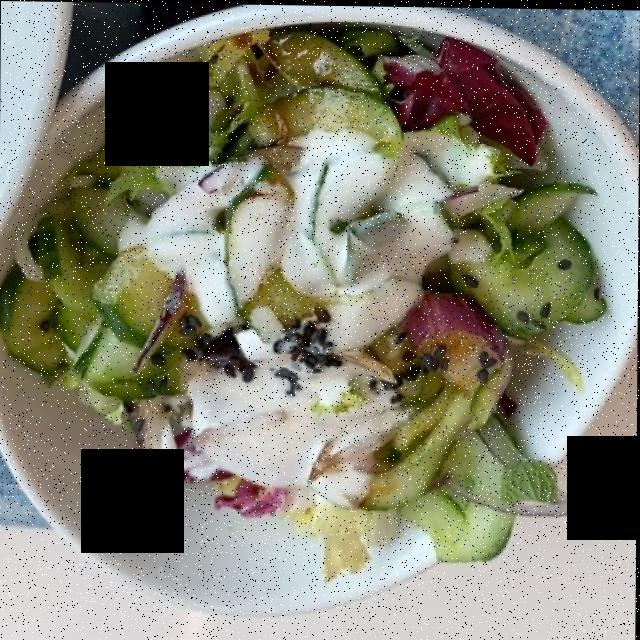mixed-salad-chopped-without-sauce: (19, 35, 590, 555)
sesame-seeds: (175, 319, 498, 382)
